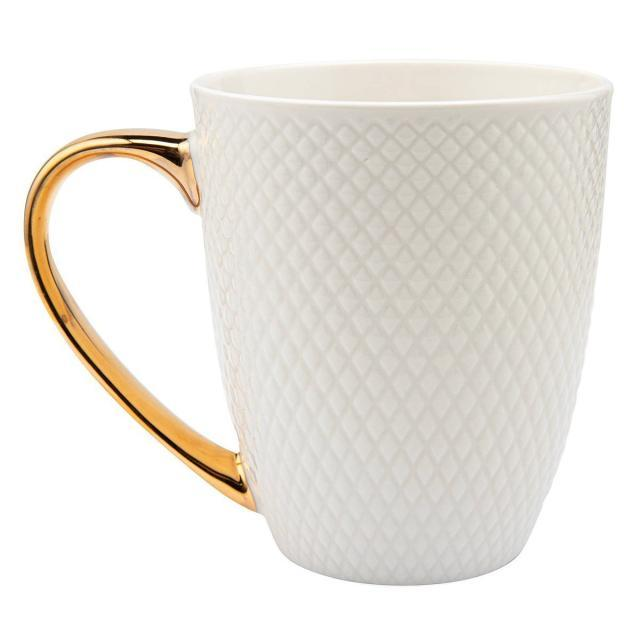Coffee Mug: (26, 61, 614, 583)
